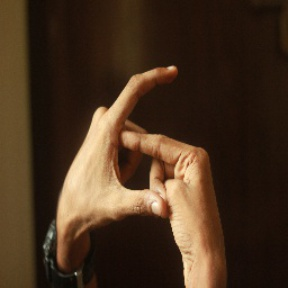E: (94, 55, 193, 221)
